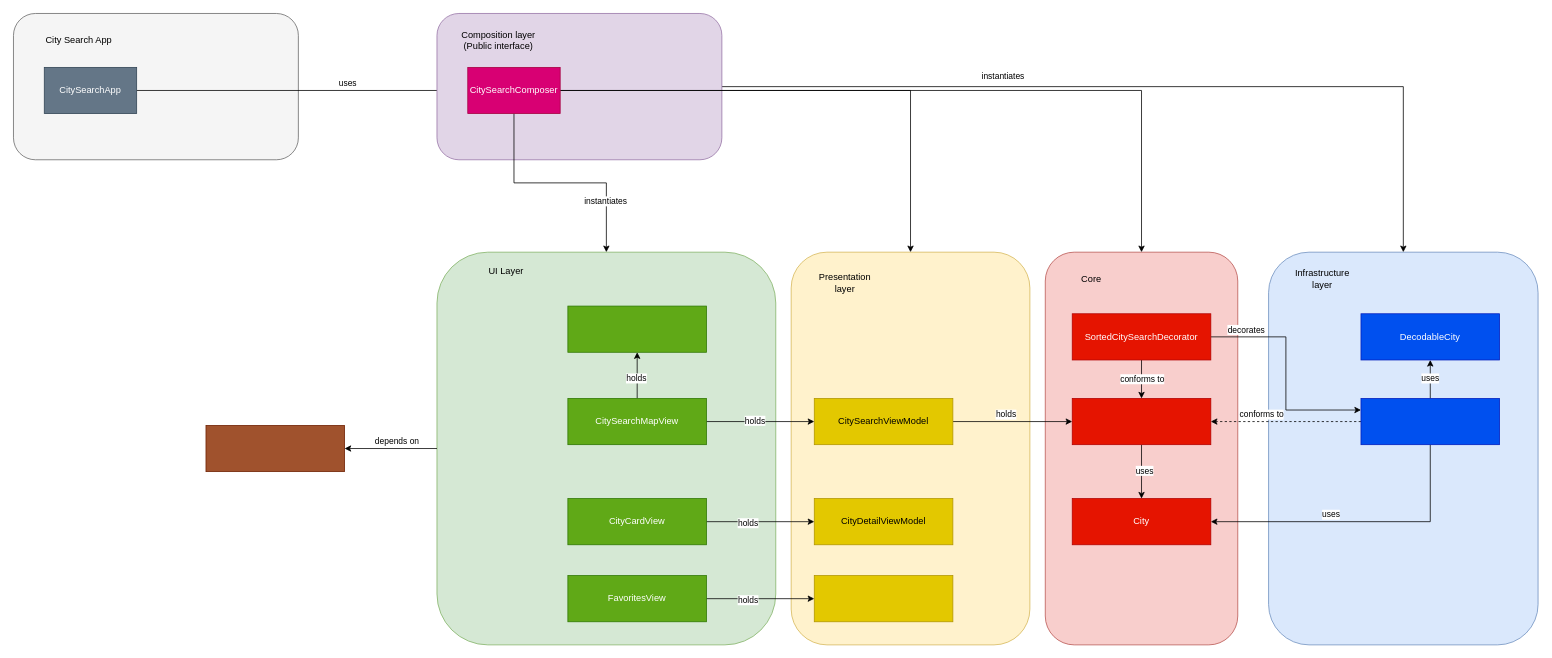
Image size: 1552x658. Some labels were removed from this diagram. The box of each missing label's shape, as (x1, y1, x2, y2) in pixels:
<CitySearchable>: (1071, 398, 1211, 445)
FavoritesViewModel: (814, 575, 953, 622)
PrefixTreeInMemoryCityStore: (1360, 398, 1500, 445)
SearchInputView: (567, 305, 706, 352)
SwiftUI: (205, 425, 345, 472)
